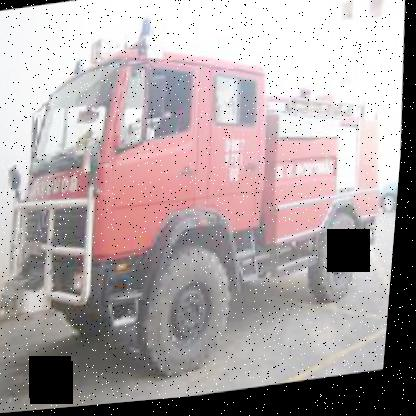emergency: (0, 0, 414, 397)
